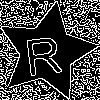R: (22, 27, 63, 76)
